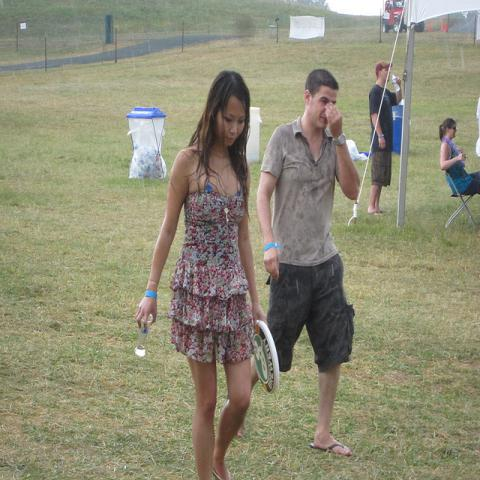car: (382, 0, 406, 34)
